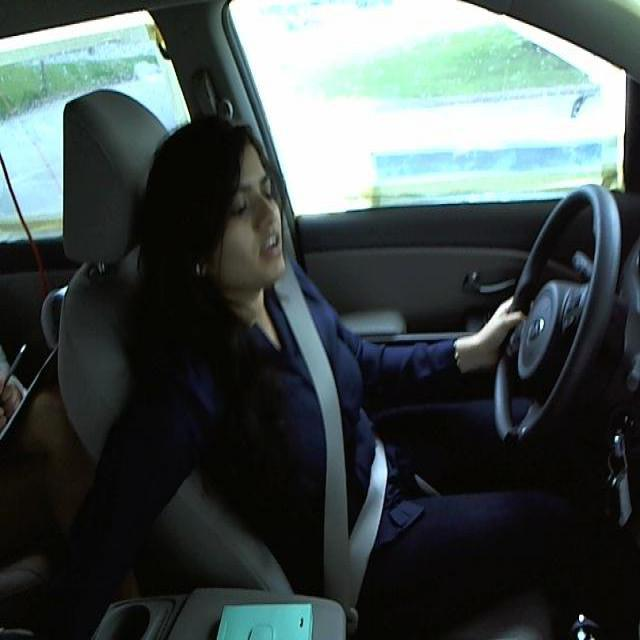seatbelt: (267, 294, 390, 606)
